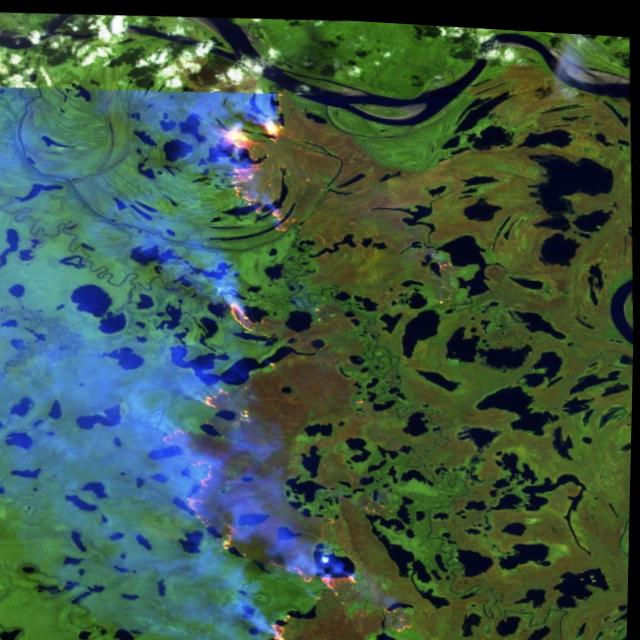fire: (127, 78, 443, 640)
